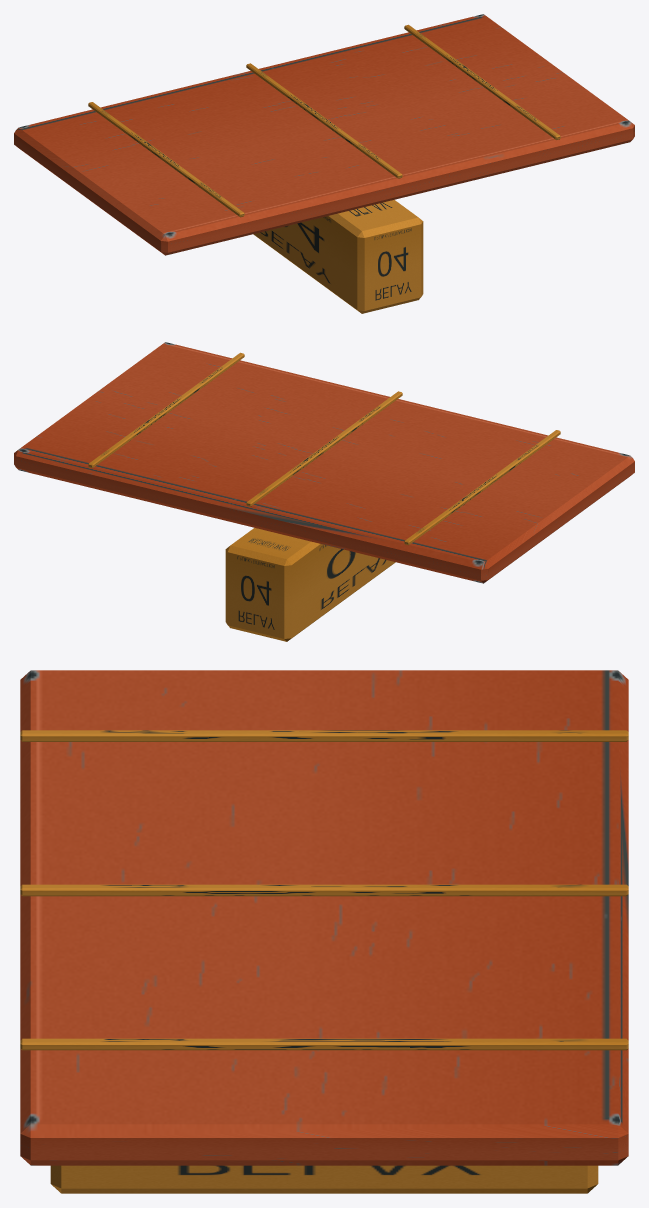
Rendered from solar_array_LOD1.obj.
3 renders of one model, top to bottom at view 1: azimuth 30°, elevation 25°; view 2: azimuth 150°, elevation 25°; view 3: azimuth 270°, elevation 25°, orthographic. The views are drawn at different scales.
Visible parts, largest first — view 1: L02_solar_array_LOD1; view 2: L02_solar_array_LOD1; view 3: L02_solar_array_LOD1.
Boxes of the visible parts, left/top/right/bottom form: L02_solar_array_LOD1: left=14, top=14, right=634, bottom=313; L02_solar_array_LOD1: left=14, top=342, right=634, bottom=641; L02_solar_array_LOD1: left=20, top=670, right=628, bottom=1193.
Size of the model in its own units: 3.6 by 1.01 by 2.
Materials: 1 (1 with a texture image).
